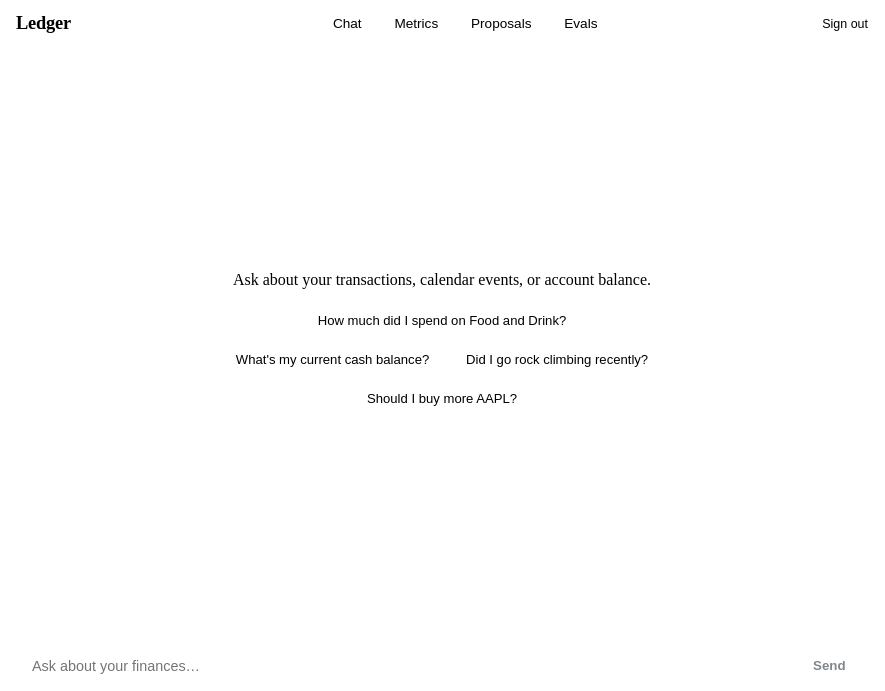
Scenario: sign-in › signs out
The image size is (885, 691).
Click the button "Sign out" at (845, 24), box [822, 17, 868, 31]
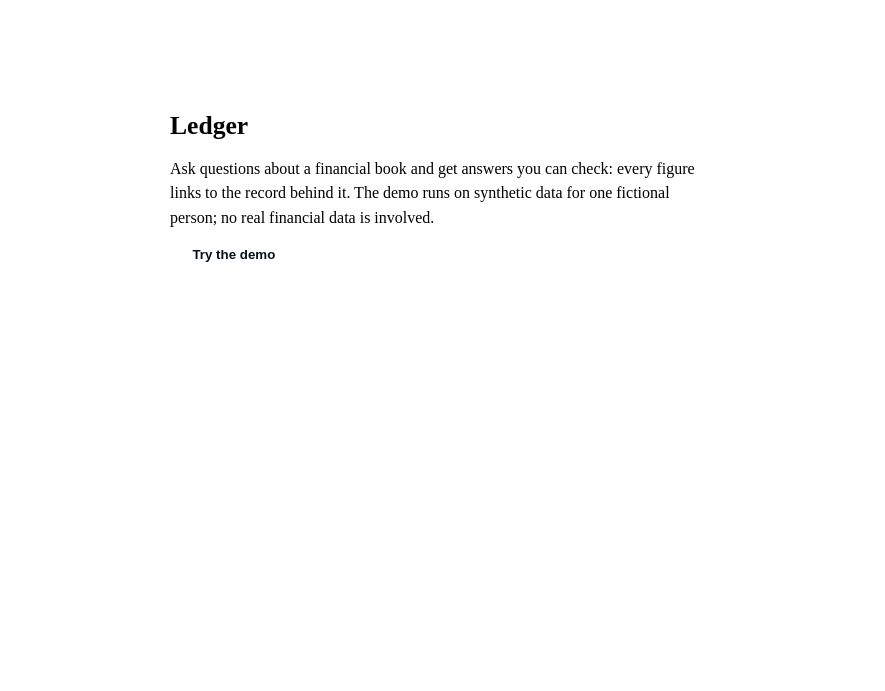
Now the button "Try the demo" is shown, box [170, 247, 298, 262]
